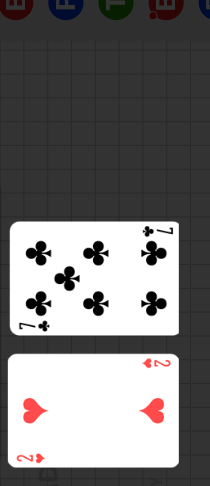2H: (141, 358, 172, 371)
7C: (141, 223, 175, 238)
